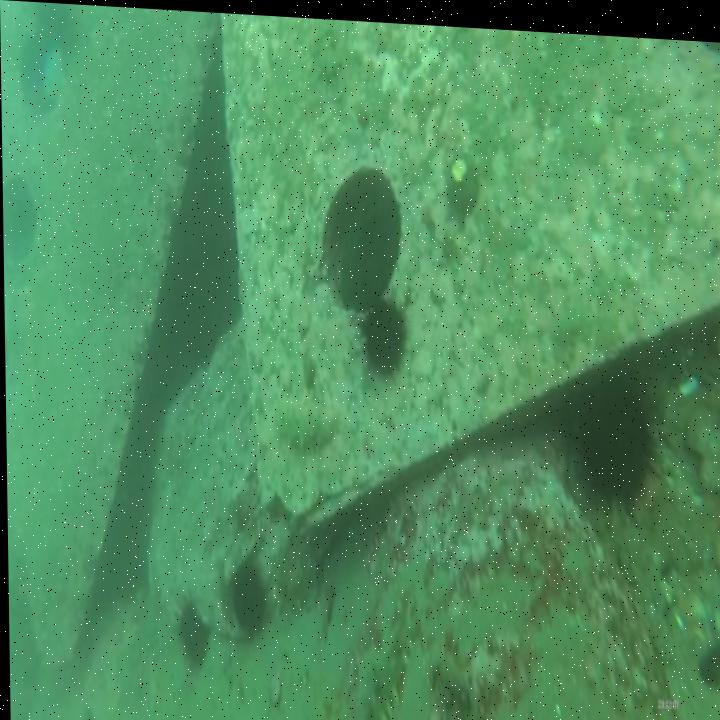echinus: (568, 348, 669, 521), (354, 280, 417, 382), (219, 541, 272, 645), (171, 582, 214, 674)
holothurian: (365, 598, 411, 720), (268, 382, 339, 444)
